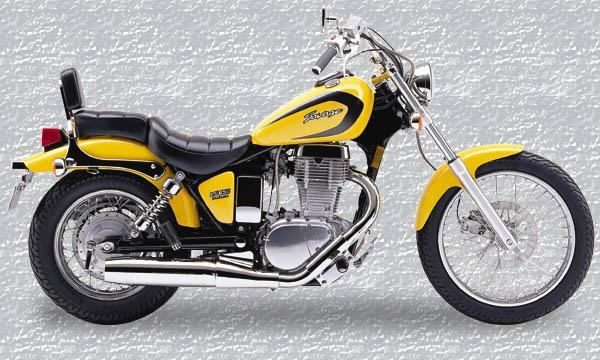motorcycle: (7, 3, 600, 337)
